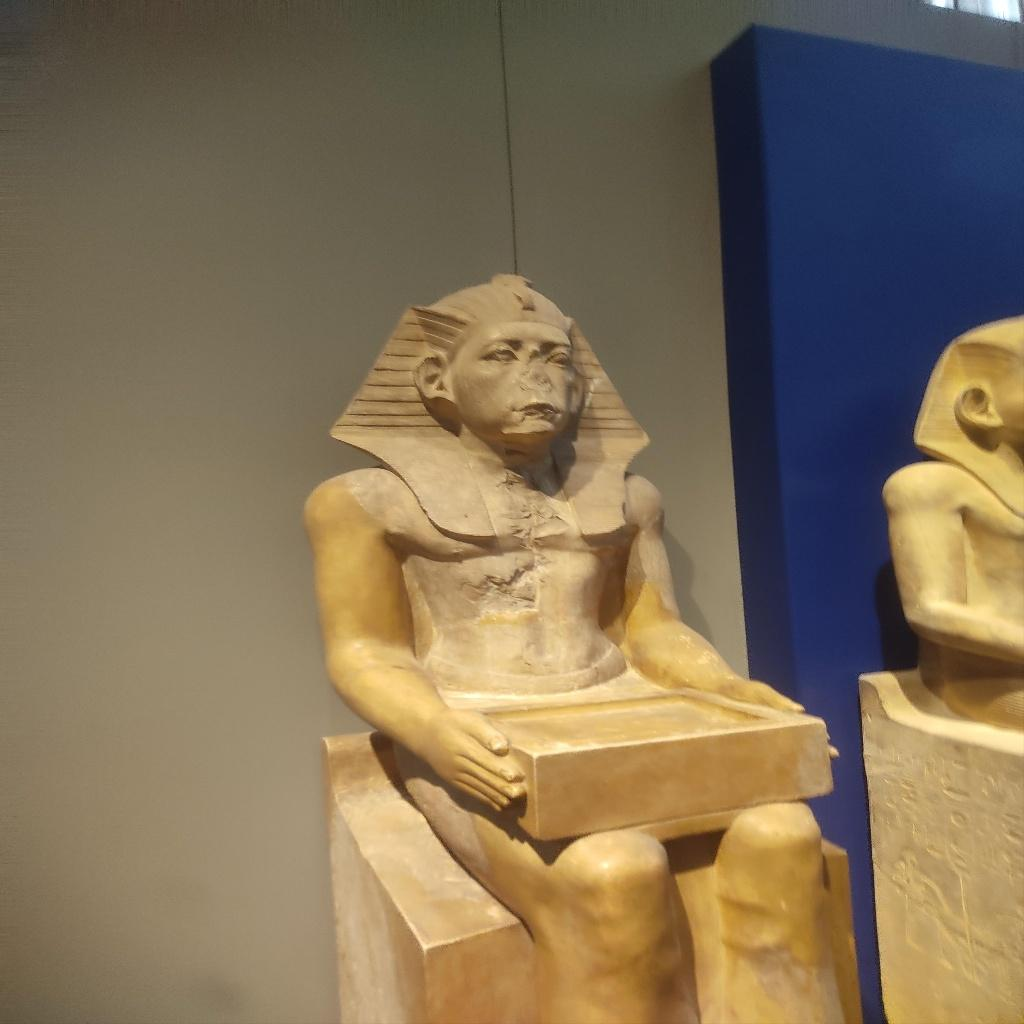Amenhotep III with Plate: (197, 218, 846, 1024)
